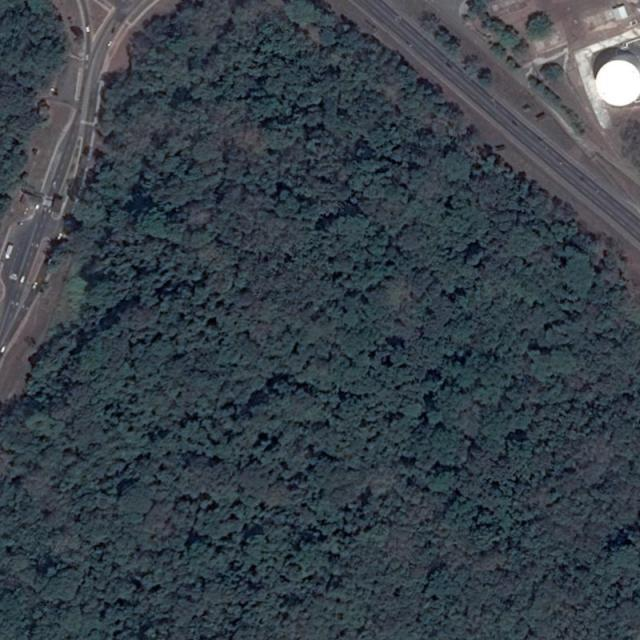vehicle: (4, 244, 14, 259)
